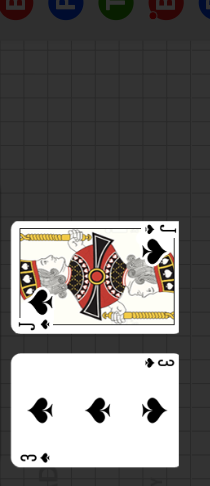3S: (142, 357, 175, 370)
JS: (130, 222, 177, 266), (10, 289, 56, 333)
